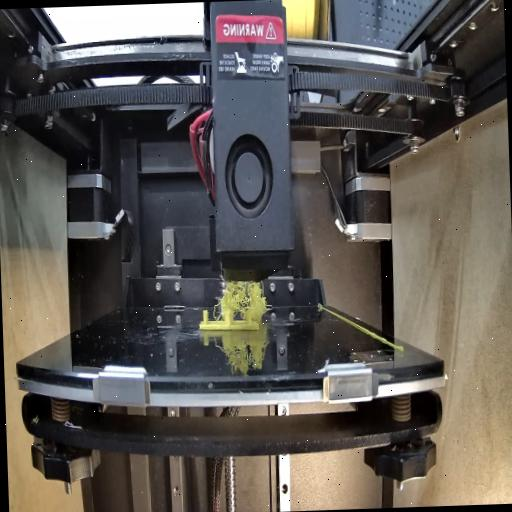spaghetti: (212, 278, 270, 324)
